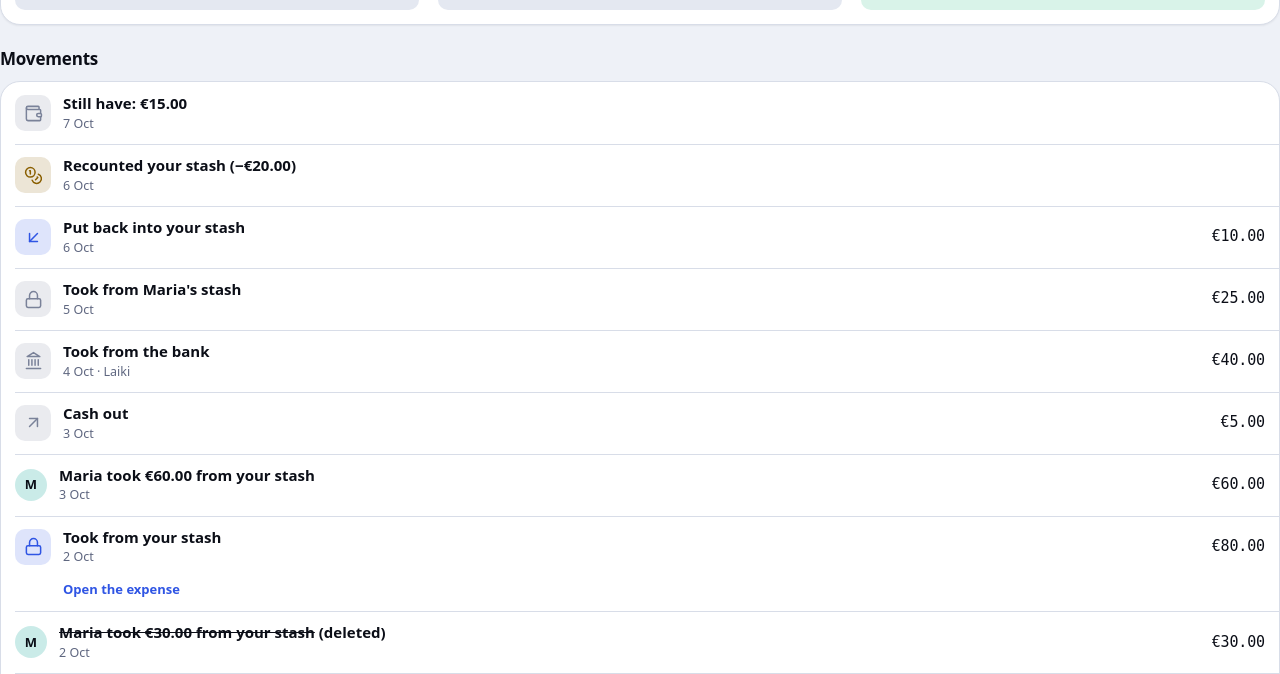
tapping your own row, then Delete, sends DELETE; others' rows are not tappable
This screenshot has width=1280, height=674.
(page scrolled)
Step 1. Click the button "Took from the bank 4 Oct · Laiki €40.00" → [33, 361], box [1,330,1279,392]
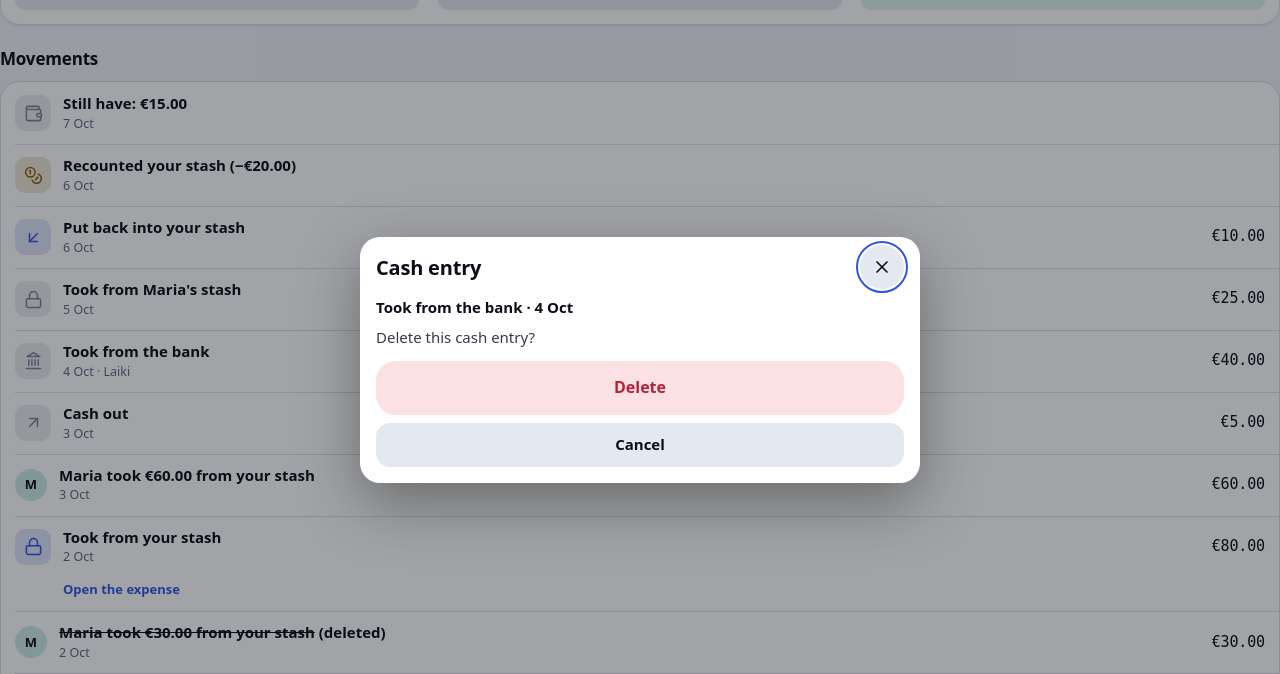
Now the dialog "Cash entry" shows "Delete this cash entry?", box [376,327,535,347]
Step 2. Click the button "Delete" → [640, 388], box [376,361,904,415]
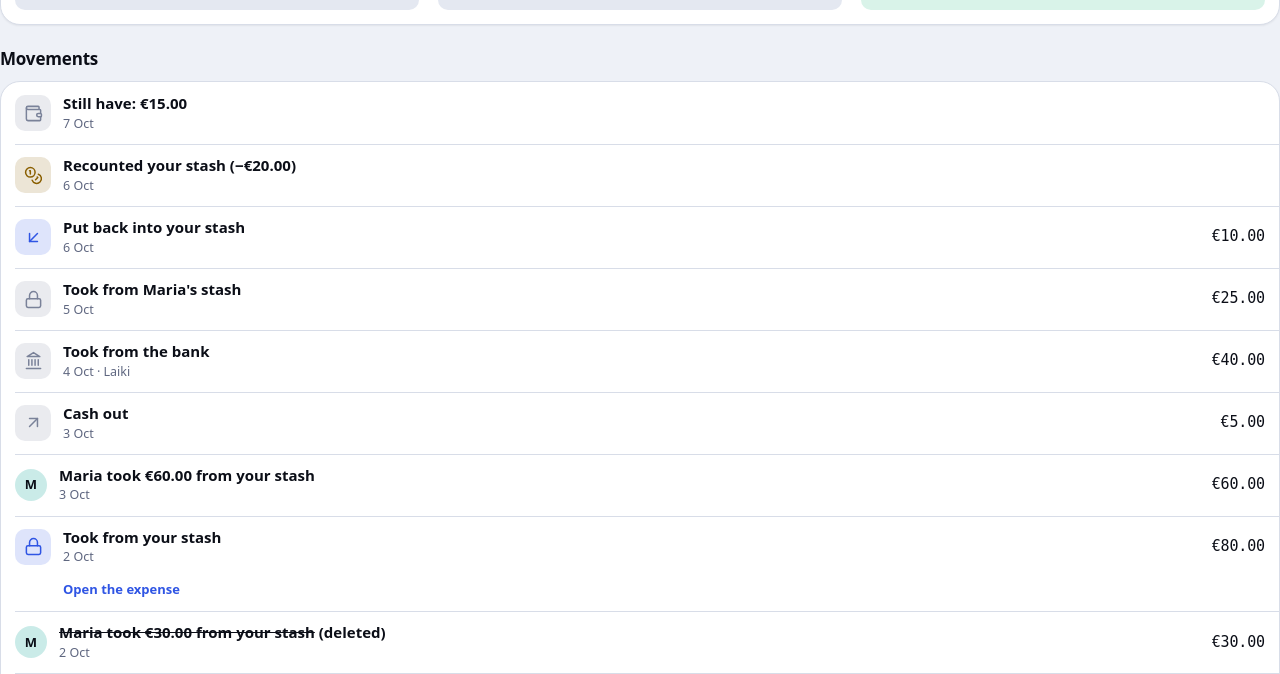
Now the dialog is gone
